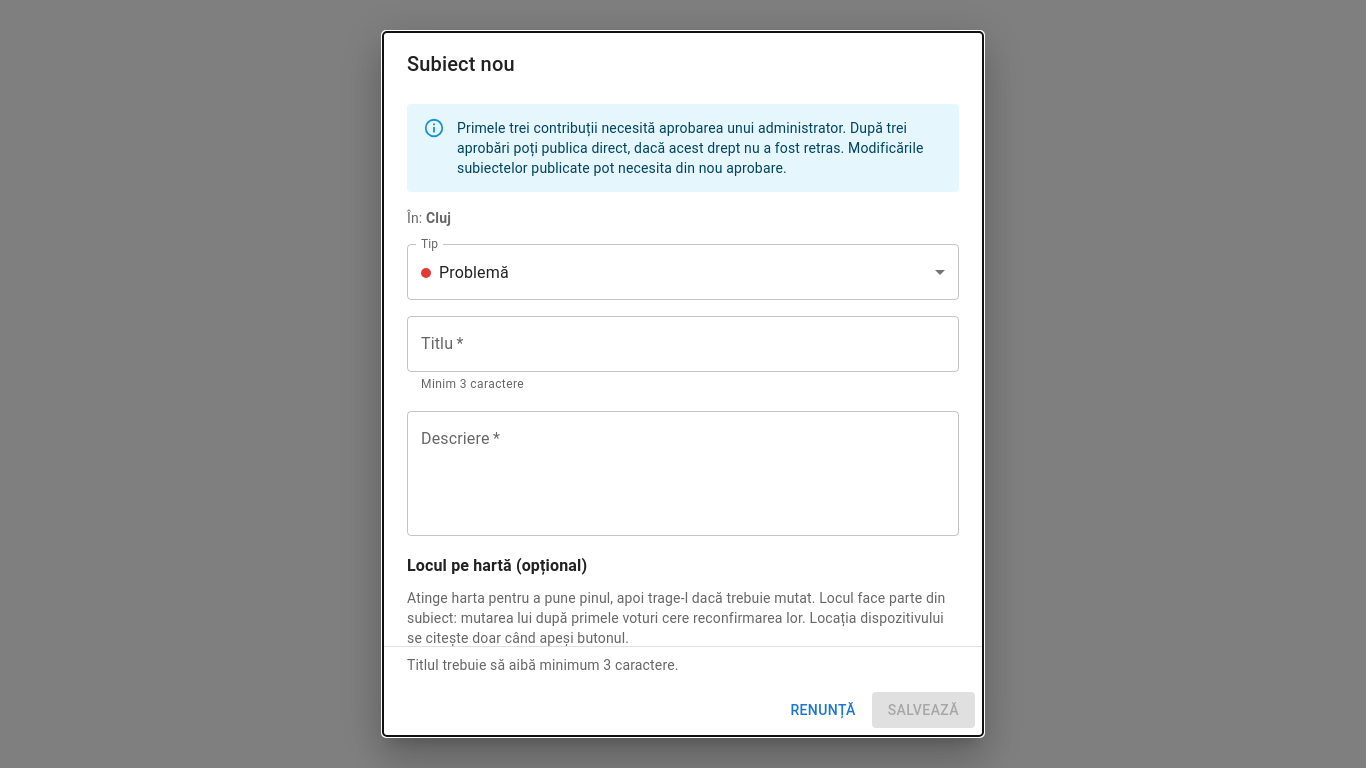
Scenario: G.3: subiectul nou cere aria; județul se caută și se trimite ca cod SIRUTA
Later steps or results of the test are not shown.
Type "Drum județean" into the field labelled "Titlu *" at point(683, 344), box [407, 316, 959, 372]
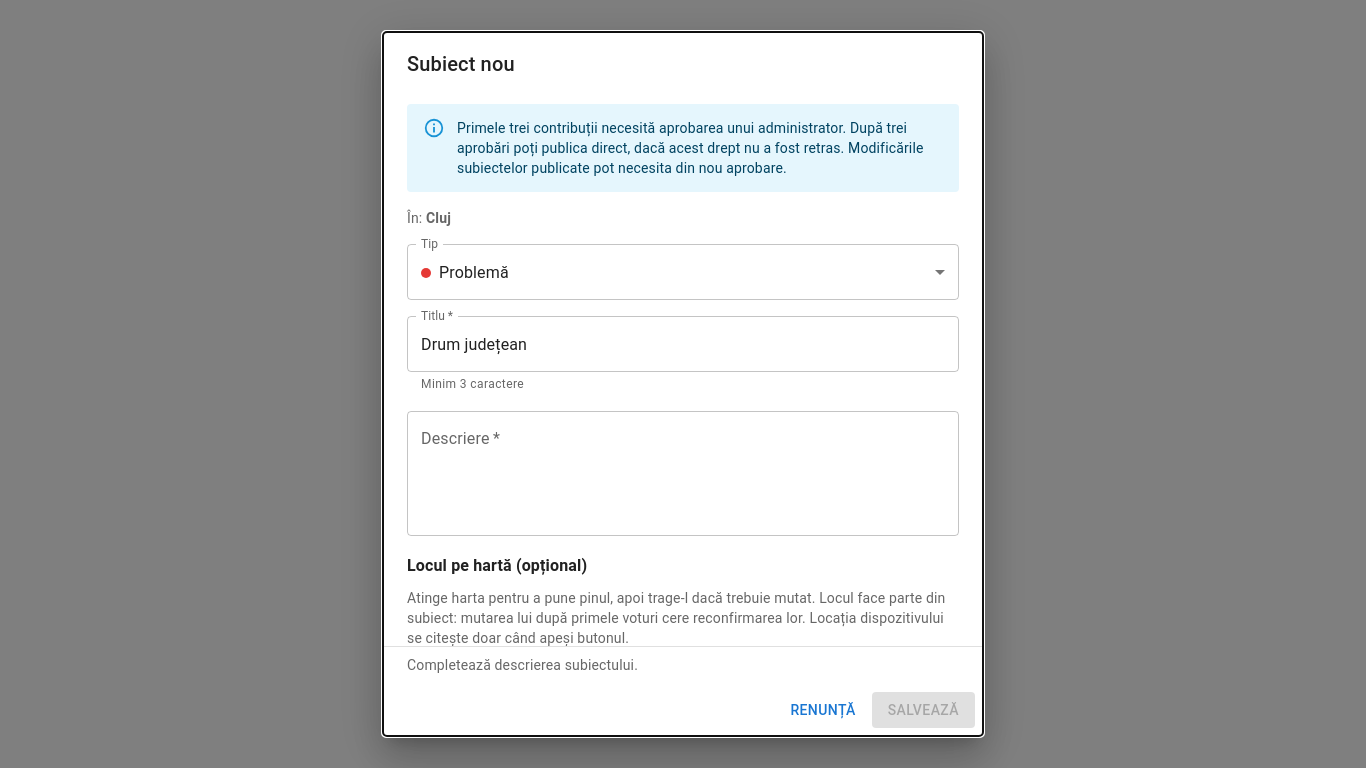
Type "Gropi" into the text box labelled "Descriere *" at point(683, 474), box [421, 428, 945, 520]
(page scrolled)
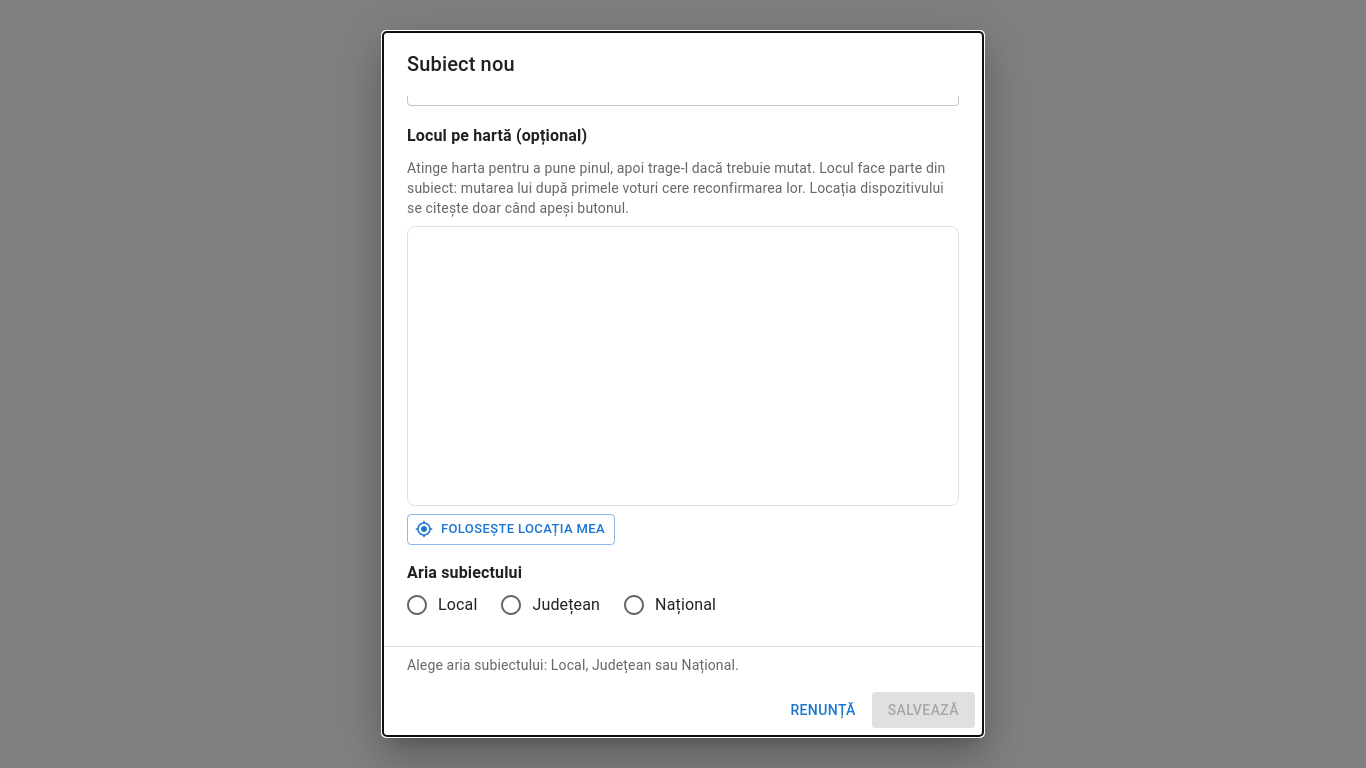
Expected: the message shows "Alege aria subiectului", [407, 658, 739, 674]
Click the radio button labelled "Județean" at point(550, 605), box [500, 593, 600, 617]
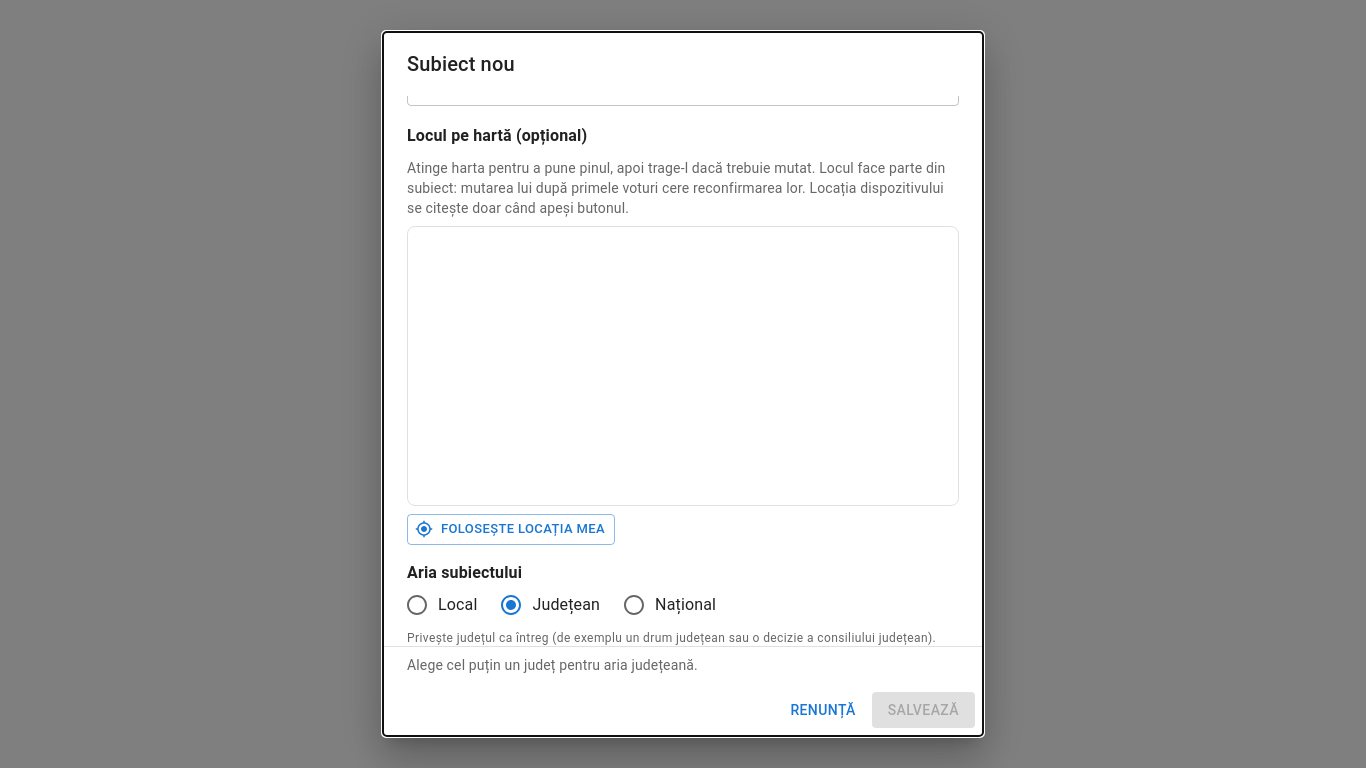
Expected: the button "Salvează" is disabled, [872, 692, 975, 728]
Expected: the message shows "Alege cel puțin un județ", [407, 658, 698, 674]
